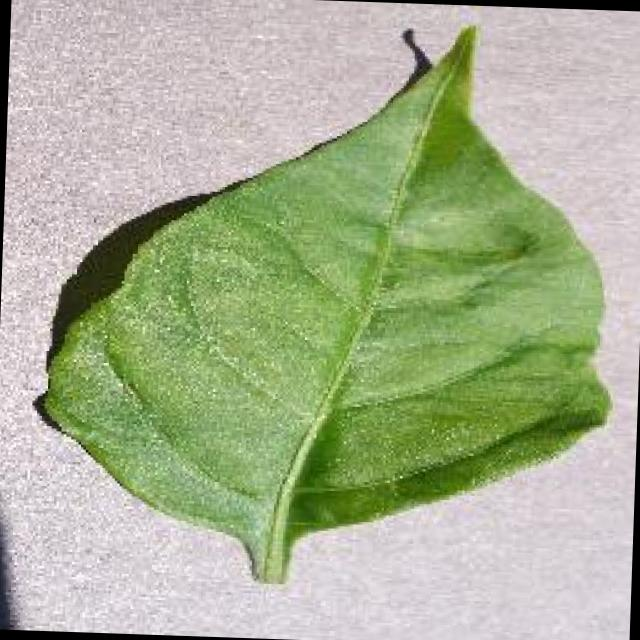Chilli_Healthy: (25, 5, 626, 595)
